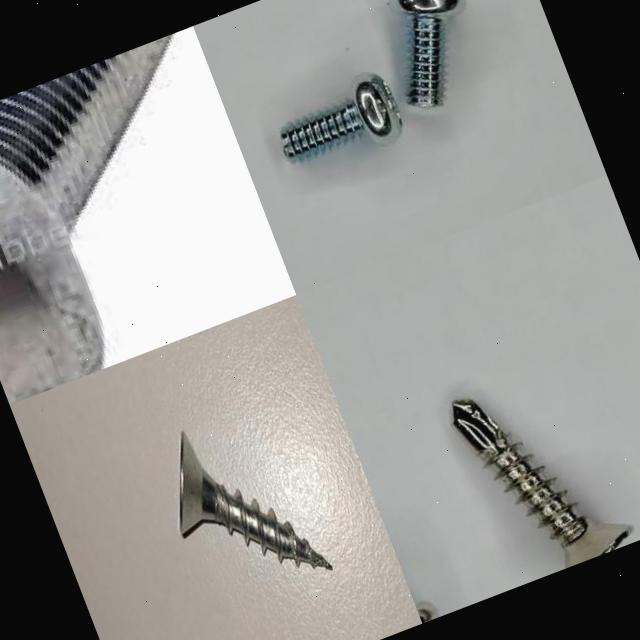Screw: (0, 34, 173, 405), (455, 399, 634, 568), (179, 431, 332, 569), (281, 73, 403, 160), (399, 0, 460, 107)
